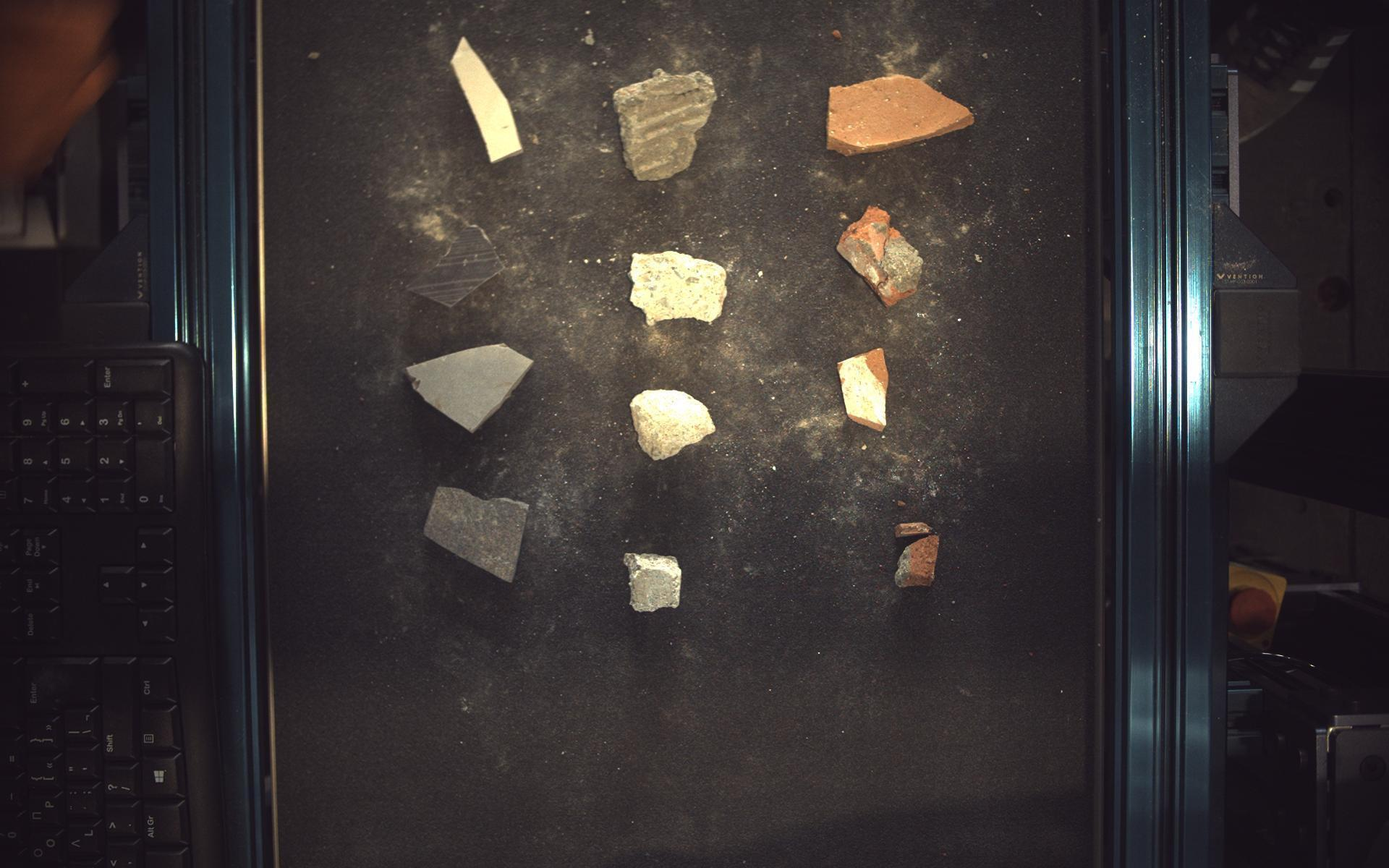brick: (829, 73, 976, 155), (838, 205, 925, 306), (839, 349, 890, 432), (896, 523, 941, 589)
concrete: (613, 67, 718, 180), (630, 250, 729, 324), (632, 390, 716, 460), (624, 553, 682, 613)
tile: (406, 343, 532, 432), (424, 488, 529, 582), (451, 35, 523, 161), (407, 224, 504, 306)
